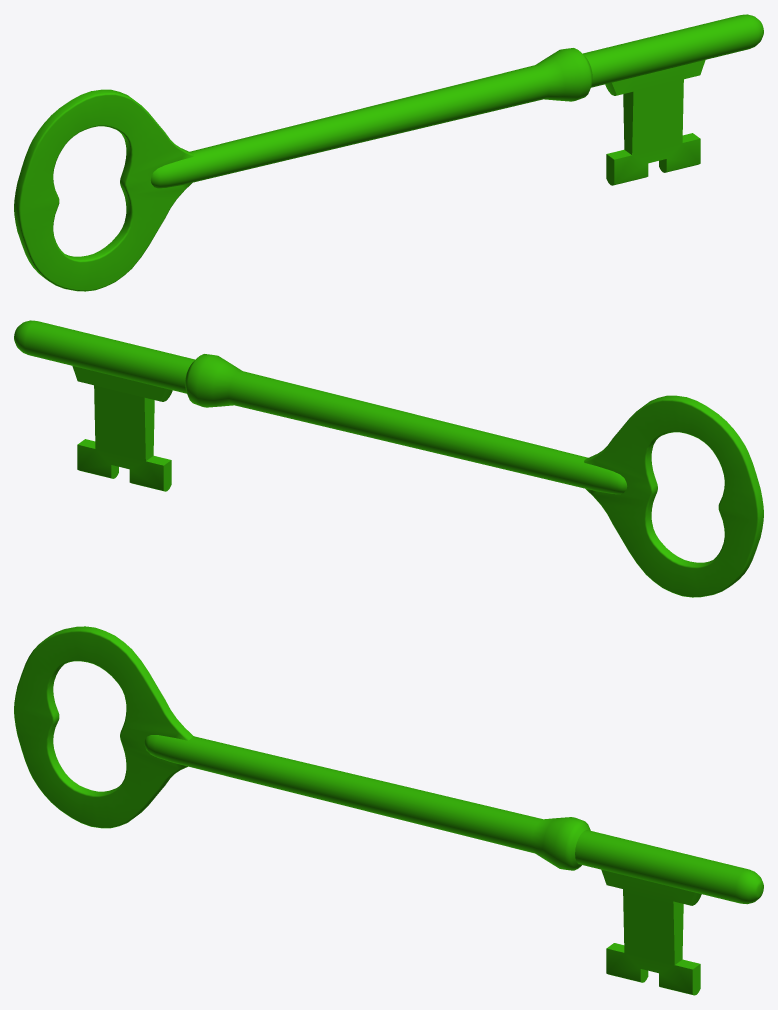
Rendered from Green_Key.fbx.
The picture shows the model from 3 angles, top to bottom: view 1: azimuth 30°, elevation 25°; view 2: azimuth 150°, elevation 25°; view 3: azimuth 330°, elevation 25°; orthographic projection.
Parts seen in each view (by area): view 1: key1_low; view 2: key1_low; view 3: key1_low.
Part boxes in pixels (<box>): key1_low: <box>14,14,763,291</box>; key1_low: <box>14,320,763,597</box>; key1_low: <box>14,626,763,995</box>.
Size of the model in its own units: 19.27 by 5.4 by 1.21.
